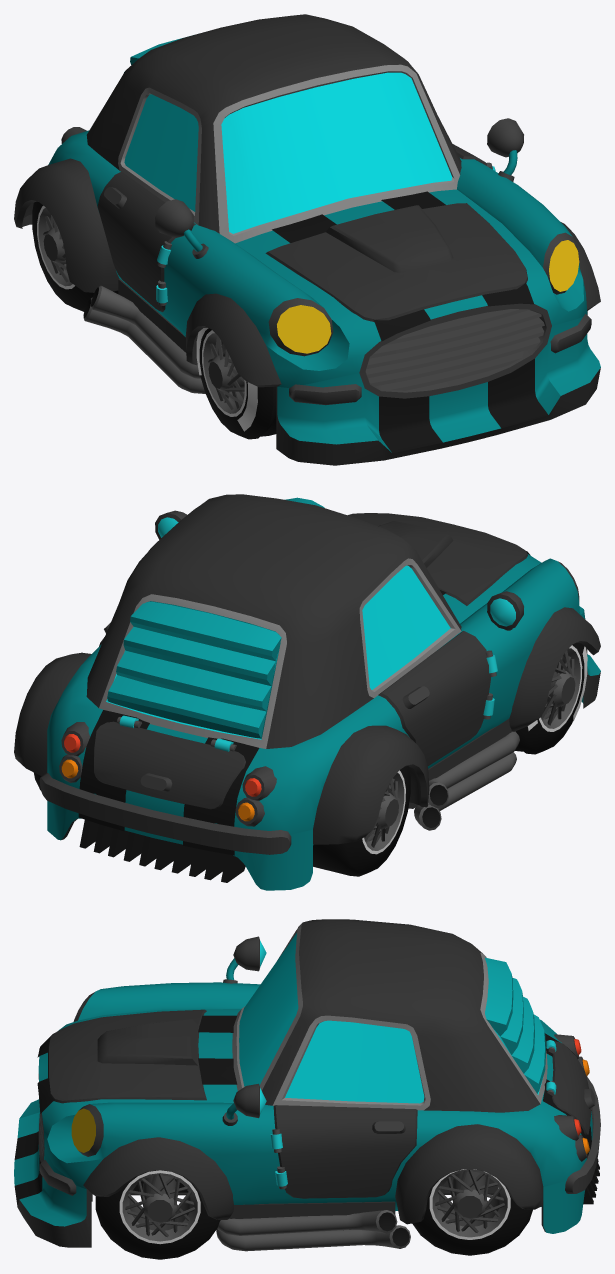
Rendered from VEH16-B.fbx.
3 views of the same model, one above another, from view 1: azimuth 30°, elevation 25°; view 2: azimuth 150°, elevation 25°; view 3: azimuth 270°, elevation 25° (orthographic). The views are drawn at different scales.
Parts seen in each view (by area): view 1: VEH16_B, V16B_Wheel_FR, V16B_Wheel_BR; view 2: VEH16_B, V16B_Wheel_BR, V16B_Wheel_FR; view 3: VEH16_B, V16B_Wheel_FL, V16B_Wheel_BL.
Boxes of the visible parts, bbox=[...] form: VEH16_B: bbox=[14, 14, 600, 465]; V16B_Wheel_FR: bbox=[196, 328, 276, 439]; V16B_Wheel_BR: bbox=[32, 201, 118, 311]; VEH16_B: bbox=[14, 494, 600, 890]; V16B_Wheel_BR: bbox=[313, 766, 410, 876]; V16B_Wheel_FR: bbox=[515, 642, 587, 754]; VEH16_B: bbox=[14, 919, 600, 1251]; V16B_Wheel_FL: bbox=[95, 1170, 220, 1259]; V16B_Wheel_BL: bbox=[412, 1169, 532, 1255].
Bounding box in the file's own units: 264 × 186 × 405.
Materials: 1 (1 with a texture image).
